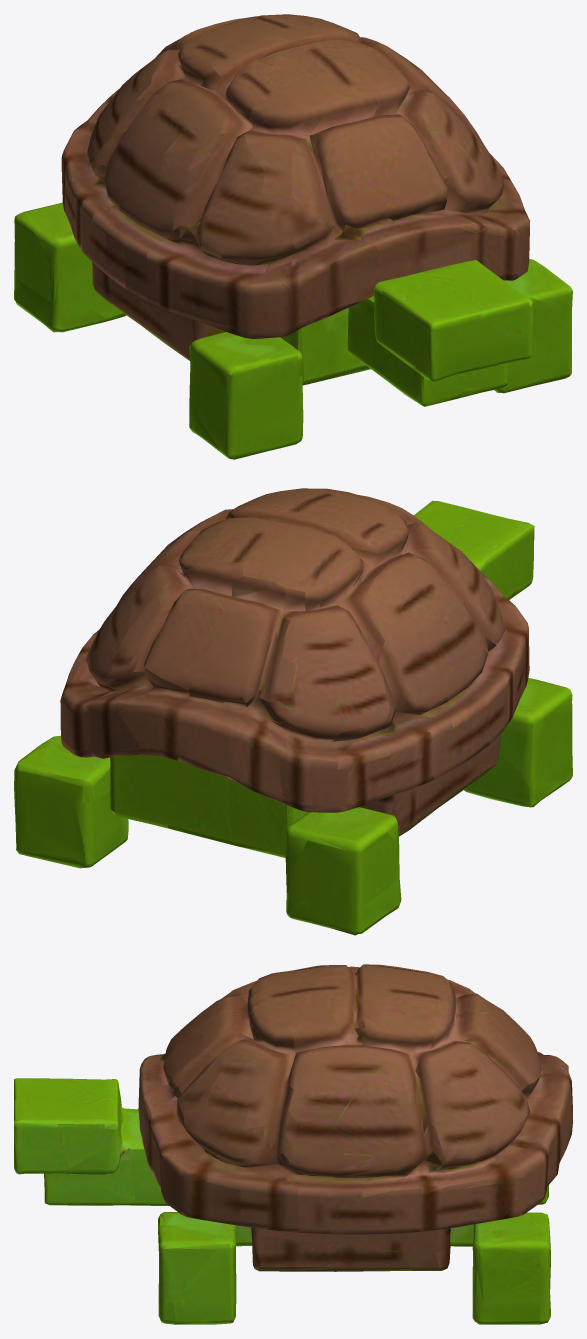
Rendered from turtle.glb.
3 renders of one model, top to bottom at view 1: azimuth 30°, elevation 25°; view 2: azimuth 150°, elevation 25°; view 3: azimuth 270°, elevation 25°, orthographic. The views are drawn at different scales.
Bounding box in the file's own units: 0.6797 × 0.5293 × 1.
Materials: 1 (1 with a texture image).
